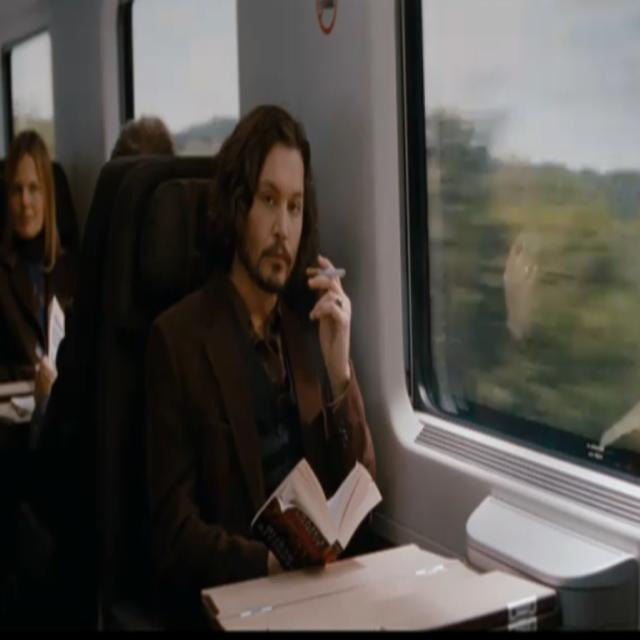smoking: (231, 130, 357, 370)
